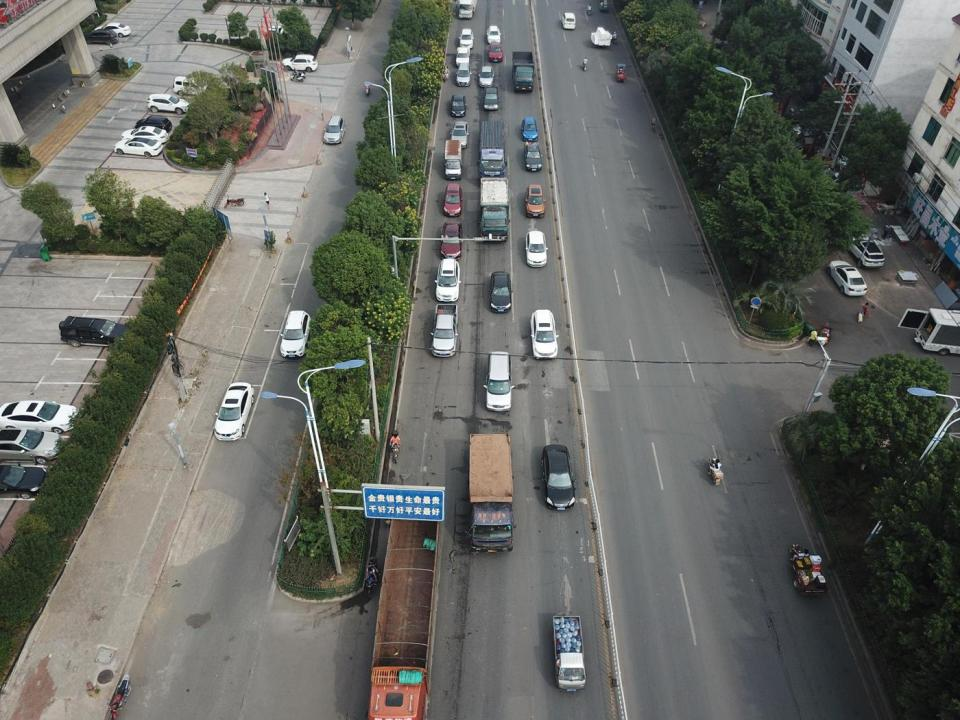car: (0, 400, 81, 433), (214, 382, 255, 441), (0, 428, 64, 463), (542, 444, 575, 511), (60, 316, 132, 346), (0, 462, 49, 498), (279, 310, 312, 359), (844, 231, 884, 270), (826, 260, 868, 296), (432, 303, 458, 357), (530, 310, 558, 360), (436, 258, 460, 302), (113, 137, 163, 157), (146, 93, 191, 114), (490, 271, 512, 313), (120, 126, 169, 144), (440, 220, 462, 259), (524, 230, 546, 267), (830, 143, 858, 172), (524, 184, 546, 218), (134, 114, 172, 132), (324, 115, 346, 146), (283, 53, 318, 72), (792, 118, 824, 138), (443, 183, 462, 216), (83, 27, 119, 44), (450, 121, 470, 148), (93, 23, 131, 36), (268, 25, 303, 39), (521, 116, 538, 142), (455, 63, 472, 86), (450, 94, 466, 117), (459, 27, 474, 49), (489, 40, 504, 62), (479, 66, 494, 87), (486, 26, 501, 42)
truck: (366, 511, 443, 720), (468, 433, 514, 552), (897, 307, 960, 357), (554, 614, 584, 694), (478, 177, 508, 241), (479, 119, 506, 181), (511, 51, 535, 91), (444, 138, 463, 180), (522, 142, 542, 172), (457, 0, 478, 19), (455, 46, 470, 66)
van: (485, 351, 512, 412), (172, 76, 207, 94), (483, 86, 500, 111), (562, 12, 576, 30)
